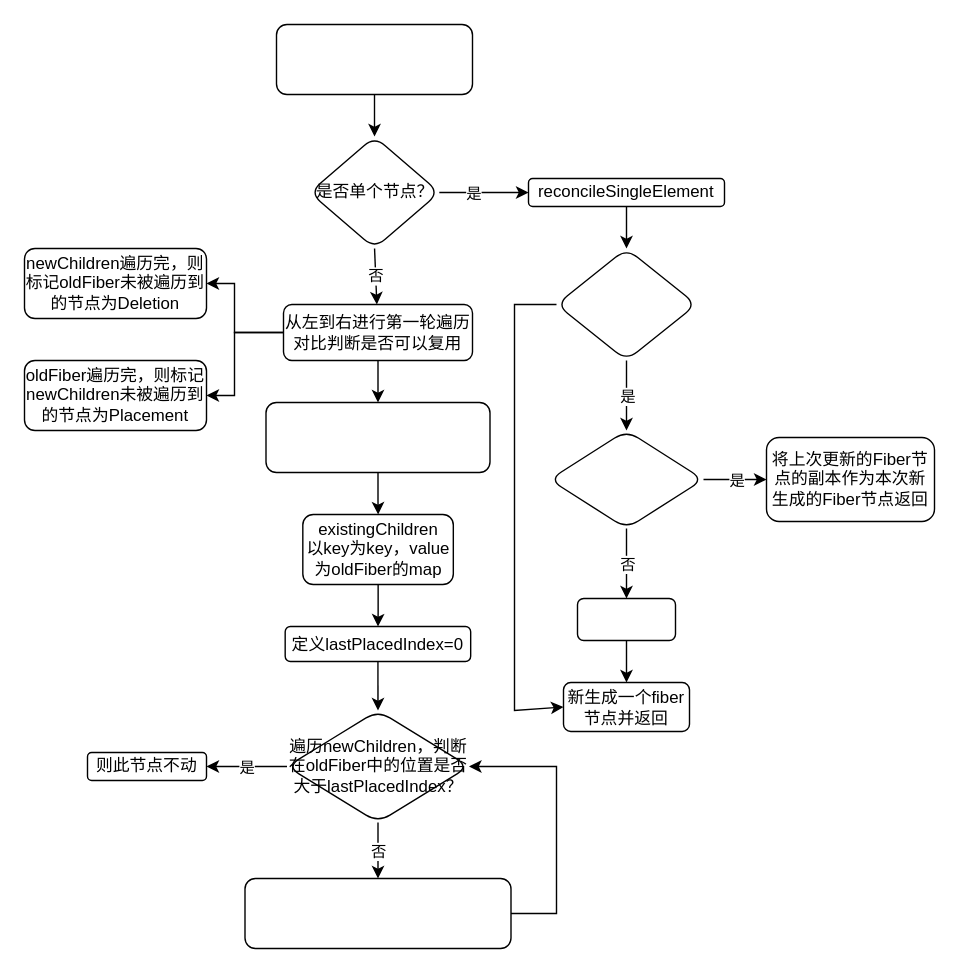
The diagram is 959 pixels wide and 973 high, and some of its shapes have lost their labels. Each missing label, with the centre of its shape:
"1. type 相同 2. key 相同 判断dom节点是否可以复用？" belongs at (626,478).
"key或type不同导致不可复用则跳出遍历，newChildren和oldFiber都没遍历完" belongs at (377,436).
"reconcileChildFibers 根据newChild(JSX对象)类型调用不同的处理函数" belongs at (373,58).
"上次更新的Fiber节点是否存在对应DOM节点？" belongs at (625,303).
"标记dom需要被删除" belongs at (626,618).
"此节点需要向右移动 同时lastPlacedIndex=oldIndex，oldIndex就是这个节点的索引" belongs at (377,912).
